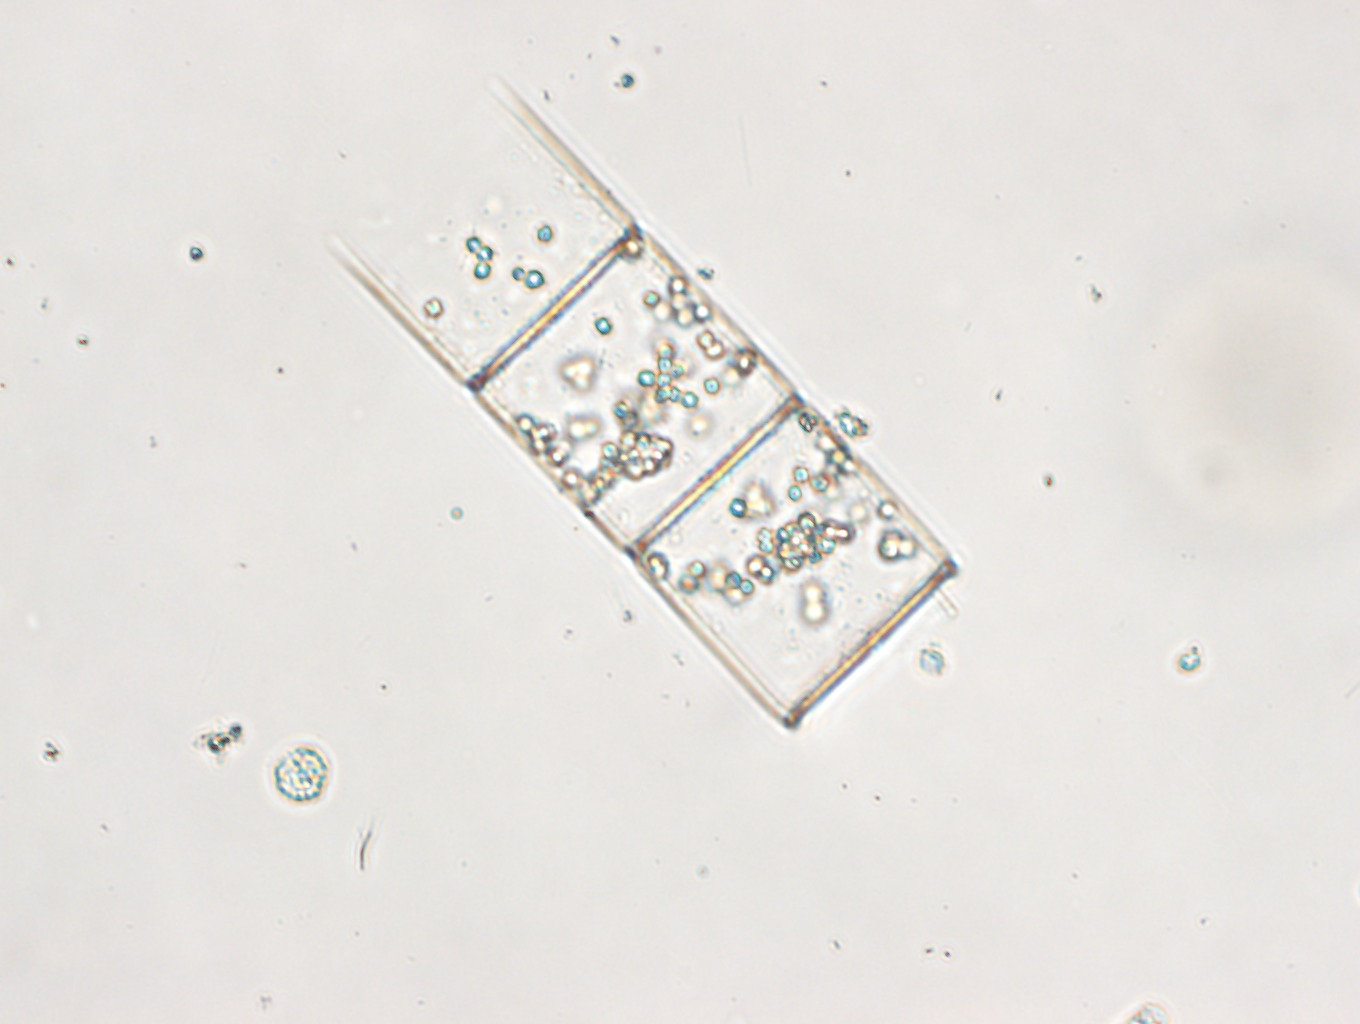guinardia flaccida: (325, 76, 960, 730)
